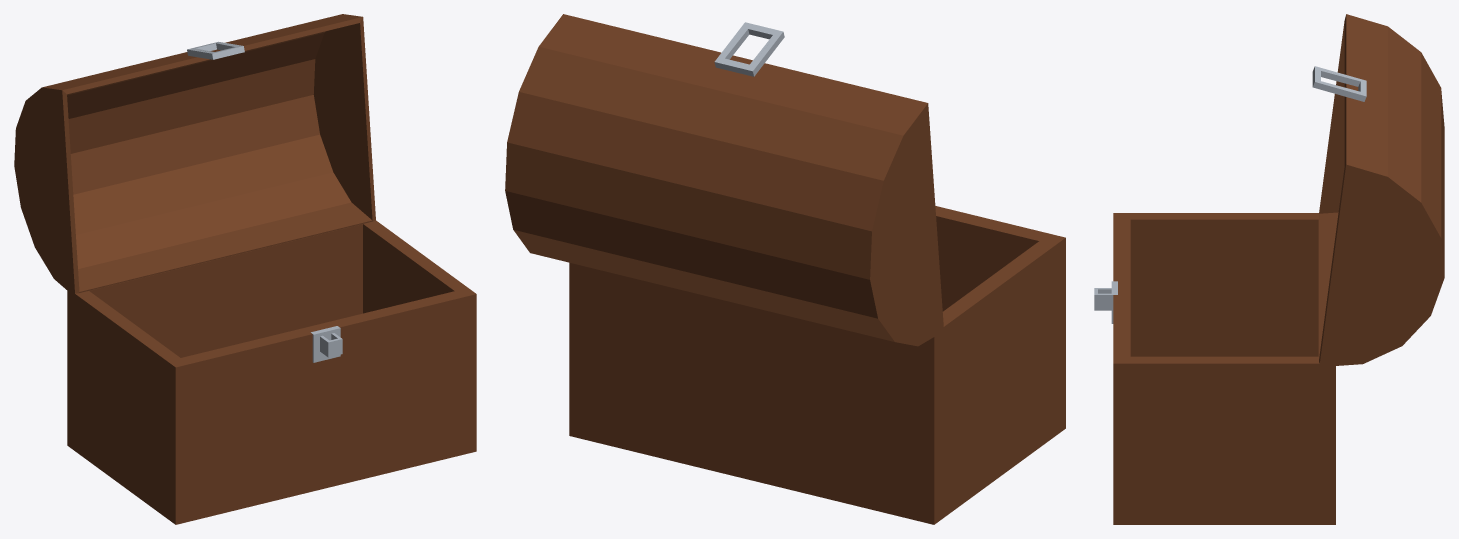
The picture shows the model from 3 angles, left to right: view 1: azimuth 30°, elevation 25°; view 2: azimuth 150°, elevation 25°; view 3: azimuth 270°, elevation 25°; orthographic projection. The views are drawn at different scales.
Parts seen in each view (by area): view 1: box, cover; view 2: cover, box; view 3: box, cover.
Boxes of the visible parts, x1,y1,x2,y2 form: box: (67,220,476,524); cover: (14,14,375,293); cover: (505,14,943,346); box: (569,206,1065,524); box: (1094,213,1335,524); cover: (1312,14,1444,367).
Bounding box in the file's own units: 100 × 116 × 98.29.
